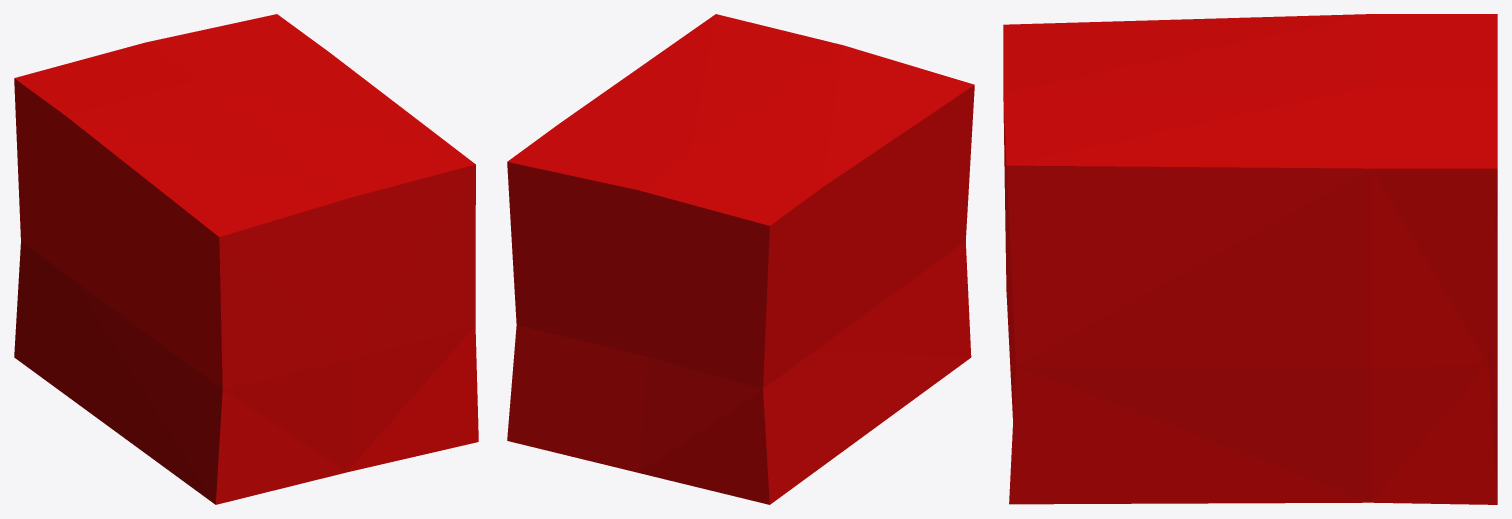
The picture shows the model from 3 angles, left to right: view 1: azimuth 30°, elevation 25°; view 2: azimuth 150°, elevation 25°; view 3: azimuth 270°, elevation 25°; orthographic projection. The views are drawn at different scales.
Visible parts, largest first — view 1: Mesh; view 2: Mesh; view 3: Mesh.
Boxes of the visible parts, x1,y1,x2,y2 form: Mesh: (14,14,478,504); Mesh: (507,14,974,504); Mesh: (1003,14,1497,504).
Bounding box in the file's own units: 0.5912 × 0.6078 × 0.7989.
